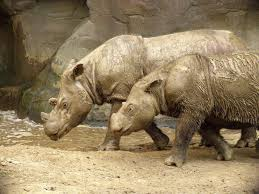Rhinoceros: (35, 18, 256, 172)
